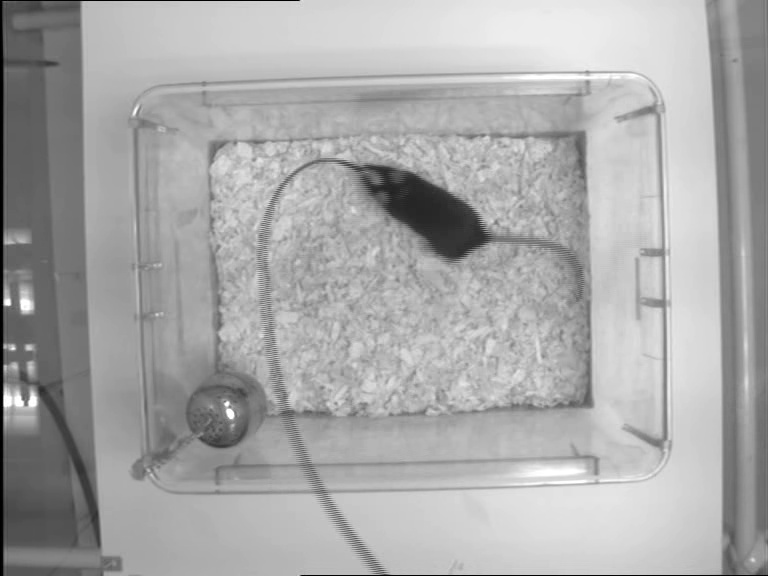mice: (360, 159, 590, 298)
